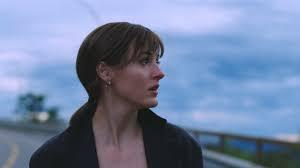Persons: (75, 14, 171, 117)
